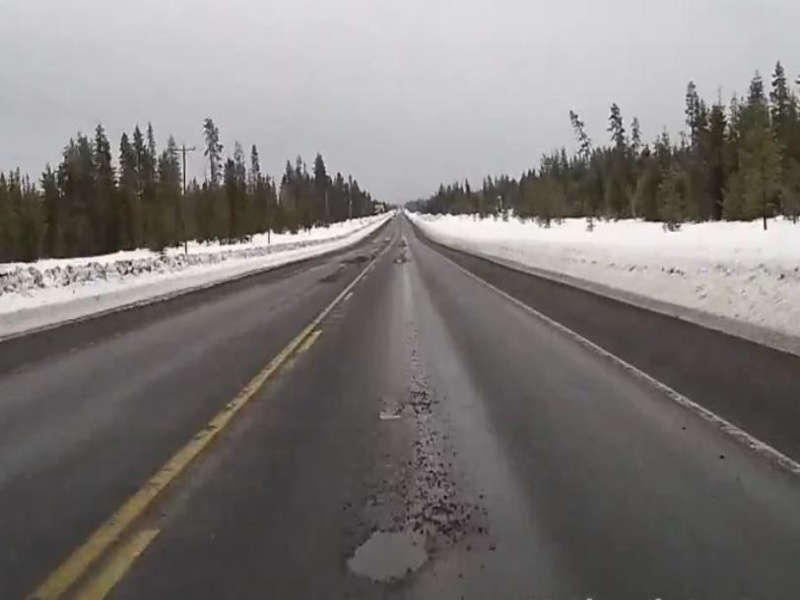pothole: (346, 522, 433, 583)
